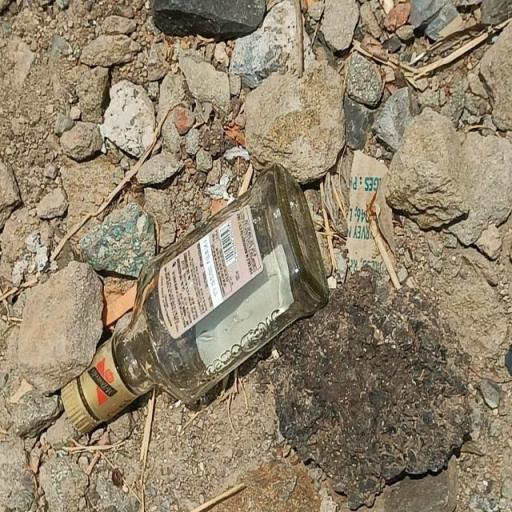glass: (40, 156, 336, 458)
